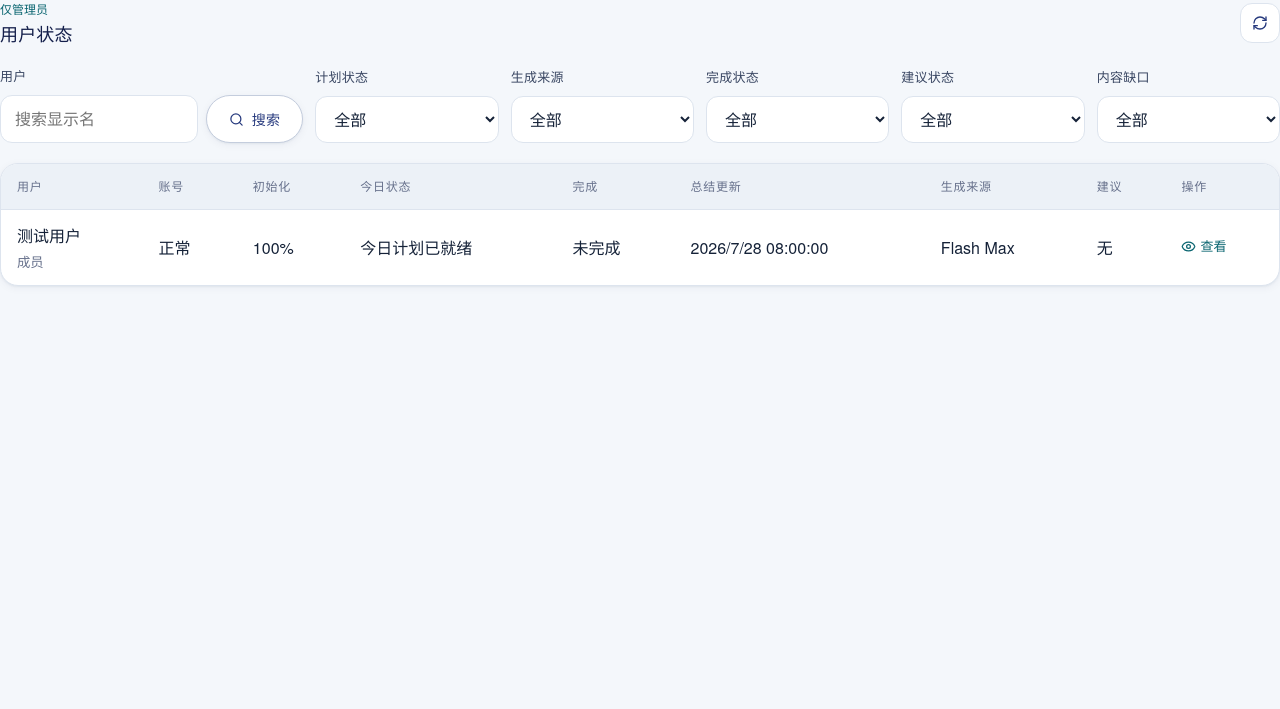
Scenario: AdminDailyUsers › reloads the authoritative user detail after a regenerate conflict
Click the button with class "action-link".
click(1204, 246)  # box x1=1182 y1=236 x2=1226 y2=257
(page scrolled)
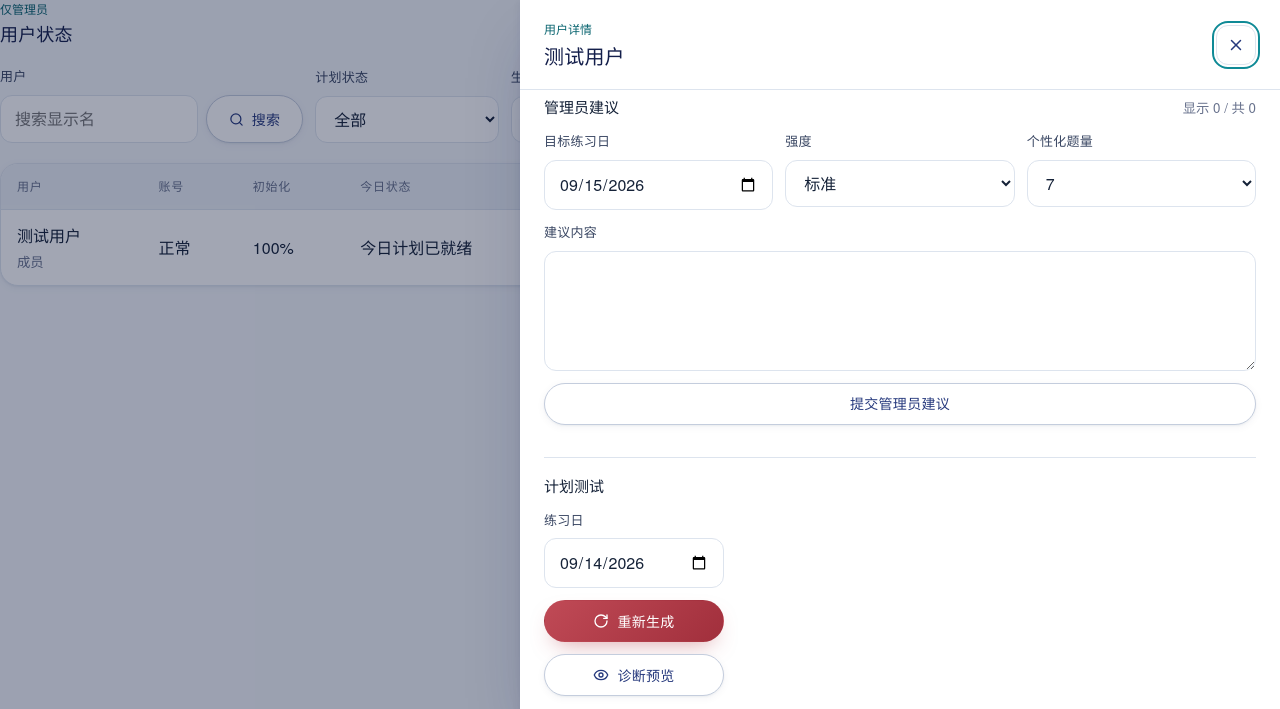
Click the button with class "regenerate-button".
click(634, 621)  # box x1=544 y1=600 x2=724 y2=642
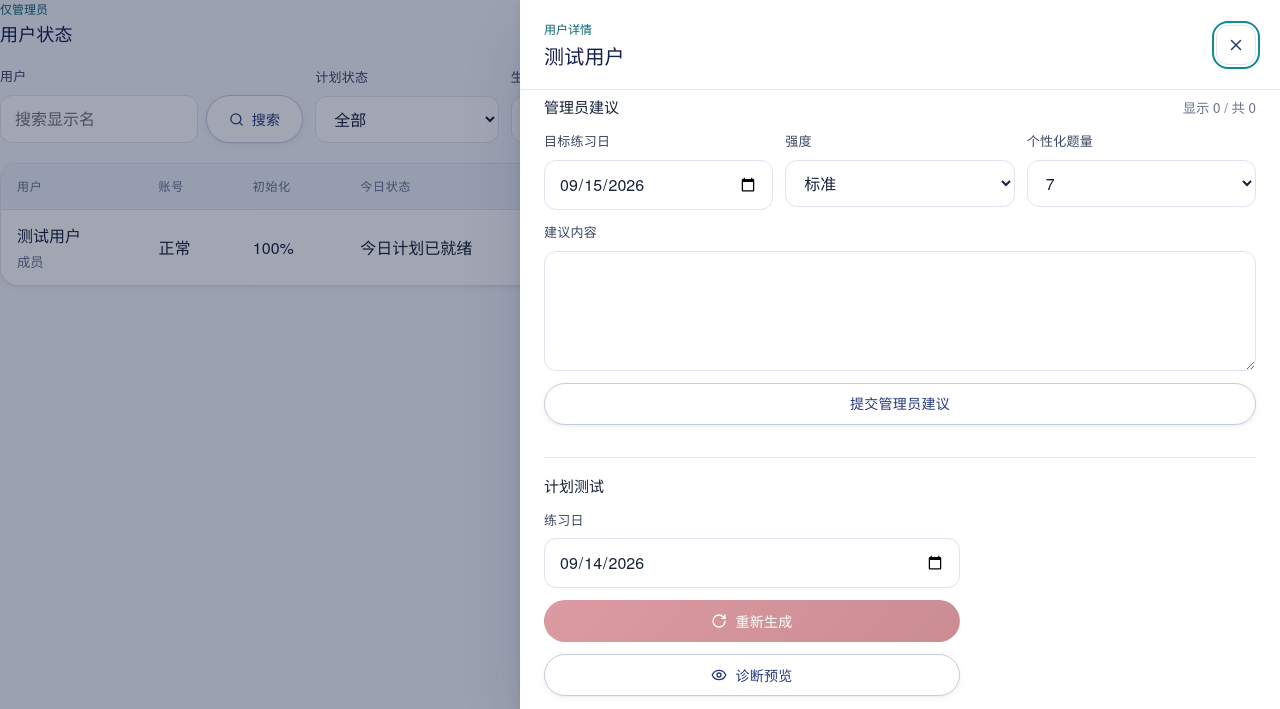
Expected: the button with class "regenerate-button" is disabled, x1=544 y1=600 x2=960 y2=642
